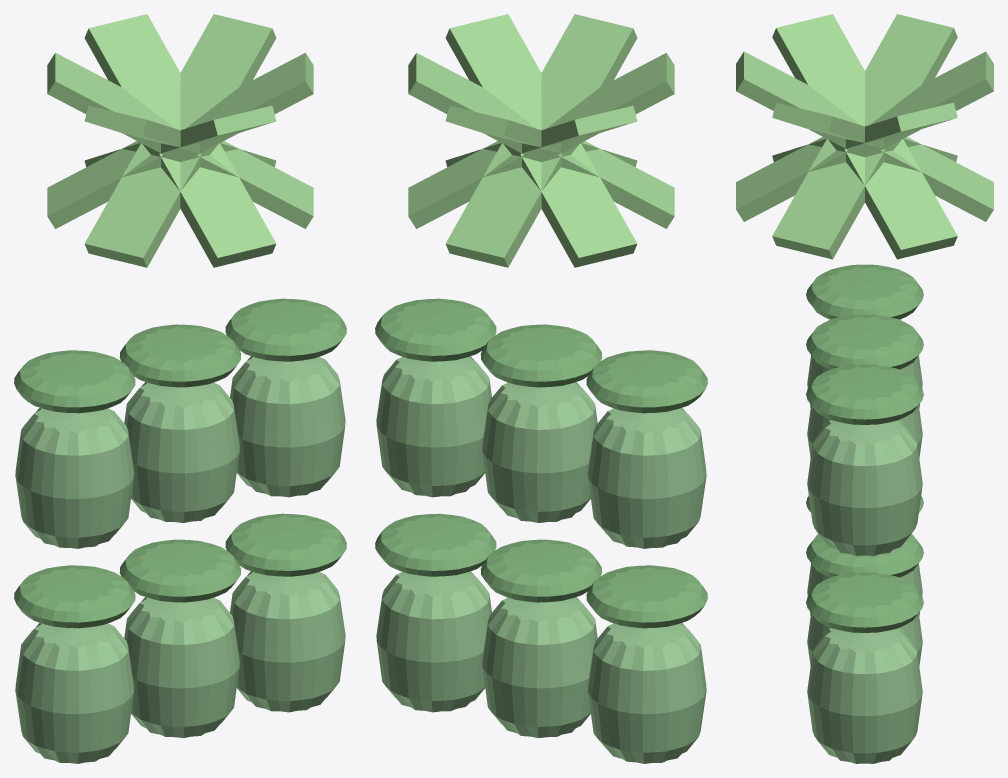
Rendered from sugarcane.glb.
The picture shows the model from 3 angles, left to right: view 1: azimuth 30°, elevation 25°; view 2: azimuth 150°, elevation 25°; view 3: azimuth 270°, elevation 25°; orthographic projection. The views are drawn at different scales.
Visible parts, largest first — view 1: CaldoDeCana; view 2: CaldoDeCana; view 3: CaldoDeCana.
Part boxes in pixels (x1,y1,x2,y2): CaldoDeCana: (14,14,346,763); CaldoDeCana: (375,14,707,763); CaldoDeCana: (736,14,993,763).
Size of the model in its own units: 0.2698 by 0.5352 by 0.1965.
